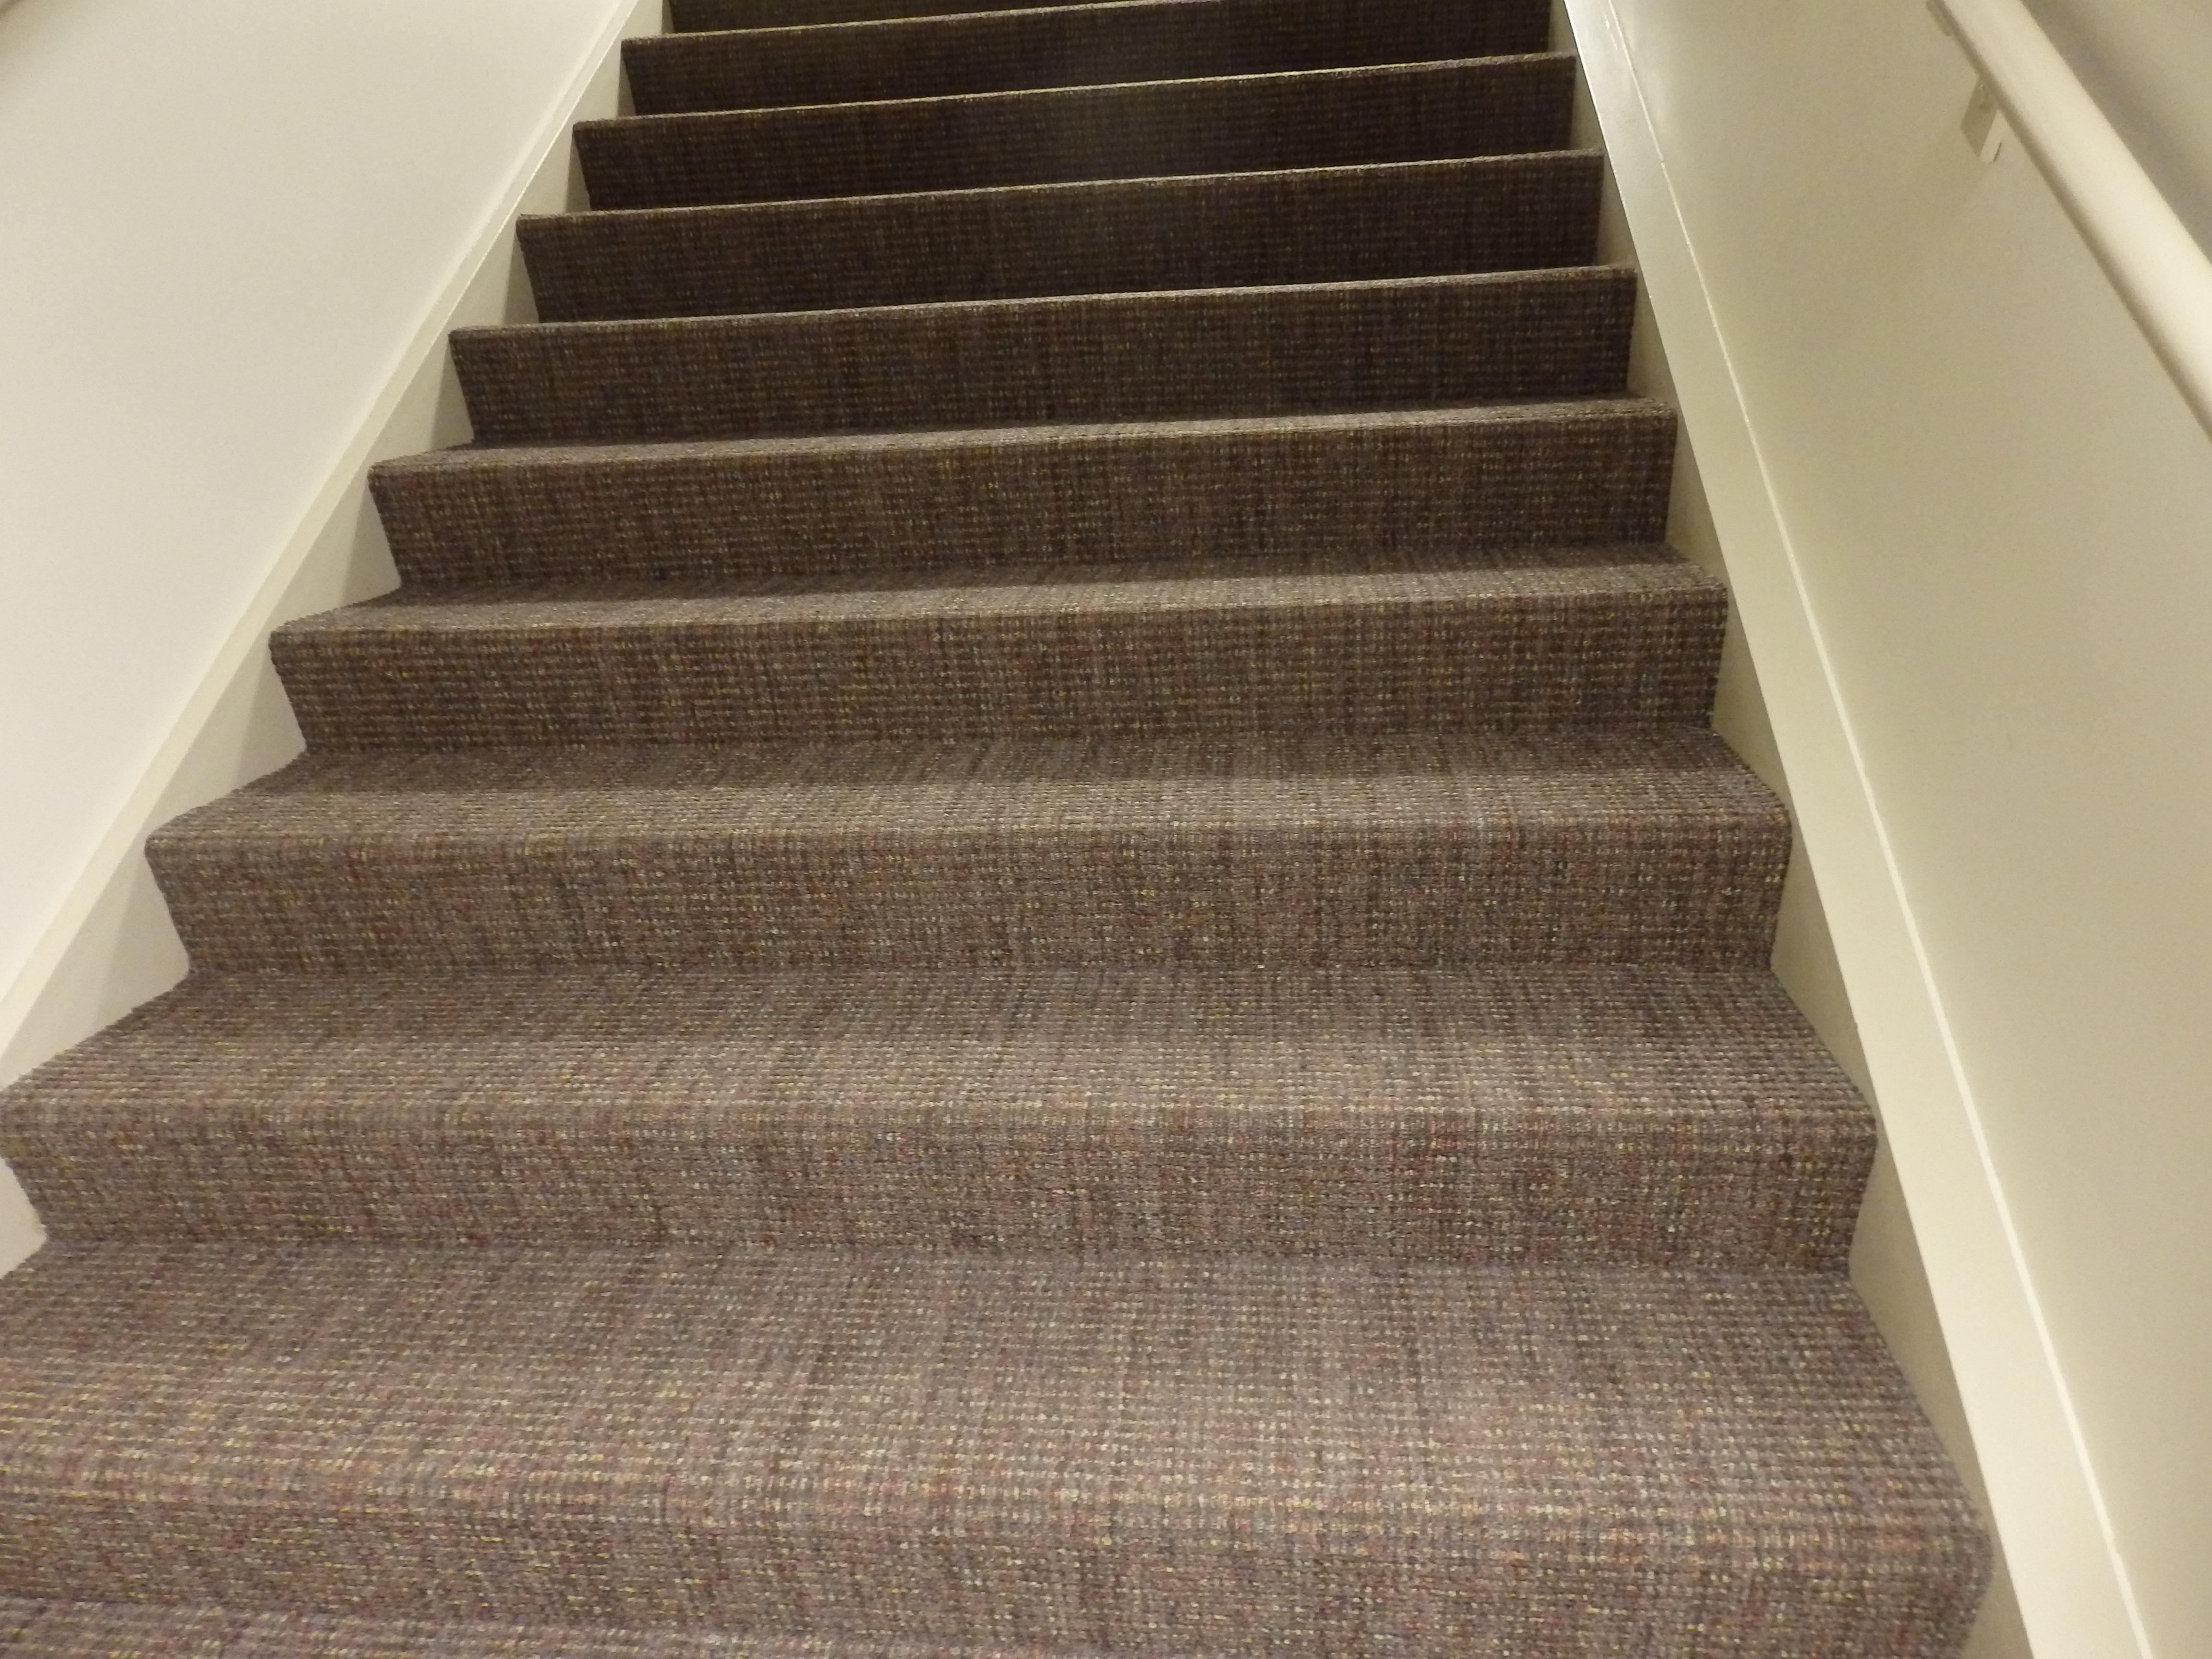stairs_up: (59, 9, 1839, 1659)
